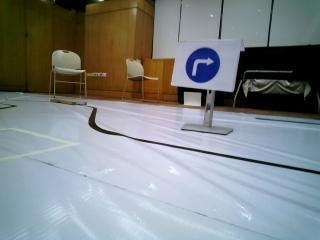right: (176, 40, 242, 93)
